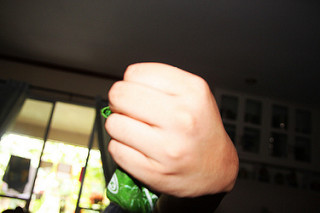fist: (99, 68, 250, 201)
